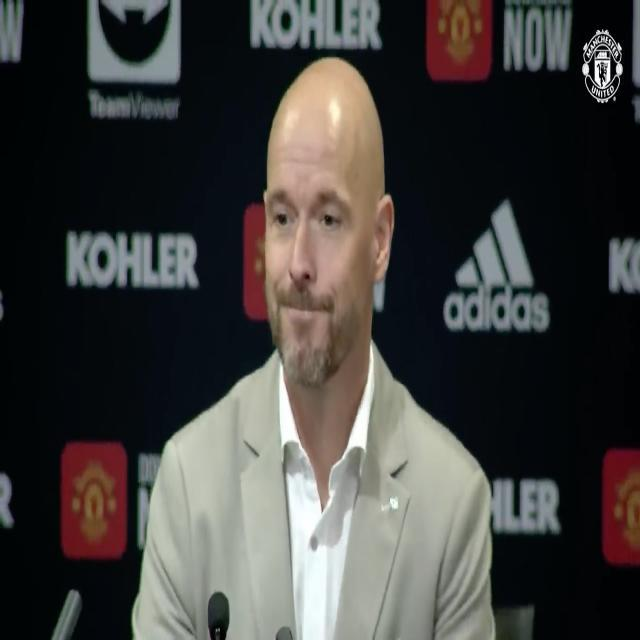Adidas: (444, 195, 551, 334)
Kohler: (68, 233, 198, 289), (250, 0, 382, 50)
TeamViewer: (88, 3, 180, 120)
